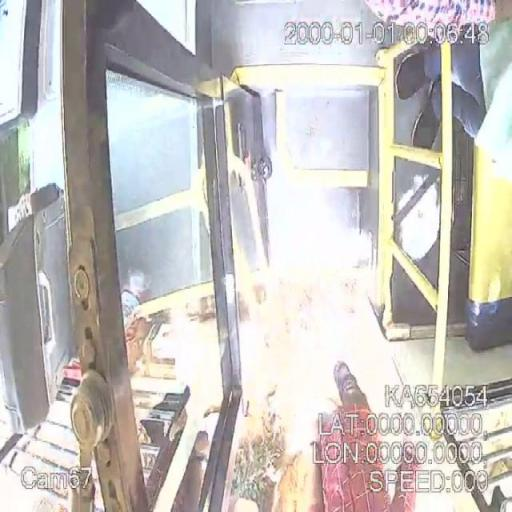persona: (317, 360, 391, 510)
